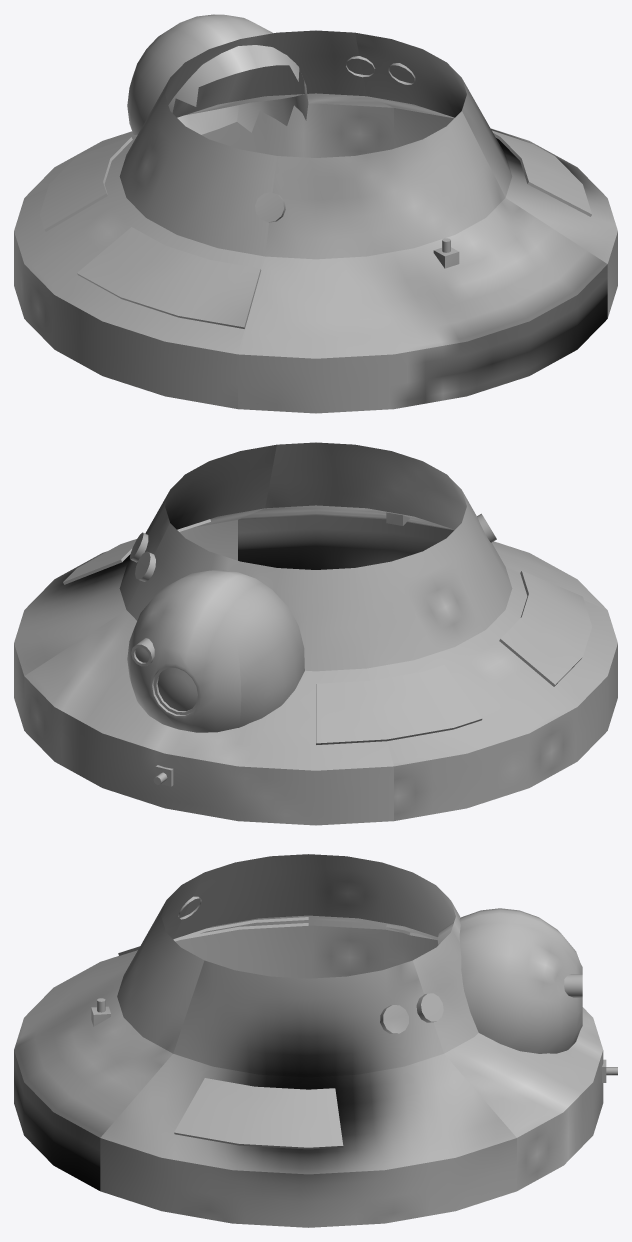
The model's file is crew_command.fbx.
3 renders of one model, top to bottom at view 1: azimuth 30°, elevation 25°; view 2: azimuth 150°, elevation 25°; view 3: azimuth 270°, elevation 25°, orthographic. The views are drawn at different scales.
Parts seen in each view (by area): view 1: mesh; view 2: mesh; view 3: mesh.
Boxes of the visible parts, left/top/right/bottom form: mesh: left=14, top=14, right=617, bottom=413; mesh: left=14, top=442, right=617, bottom=825; mesh: left=14, top=854, right=617, bottom=1227.
Bounding box in the file's own units: 2.5 × 0.875 × 2.56.
